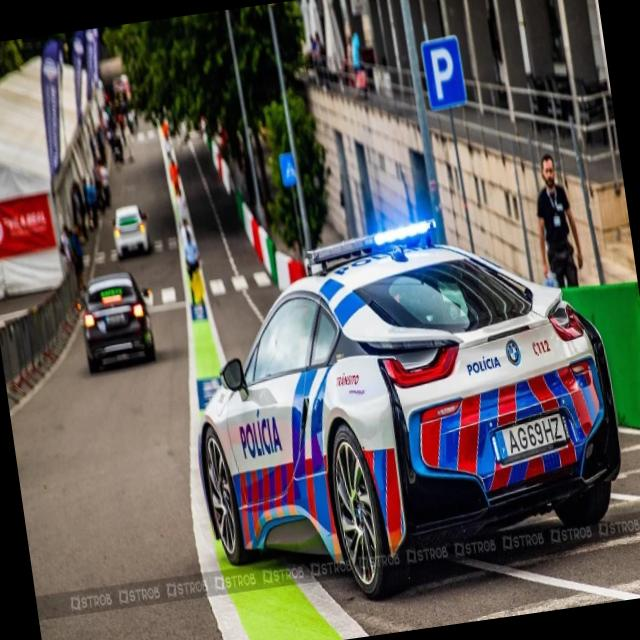portuguese-license-plates: (493, 406, 569, 465)
